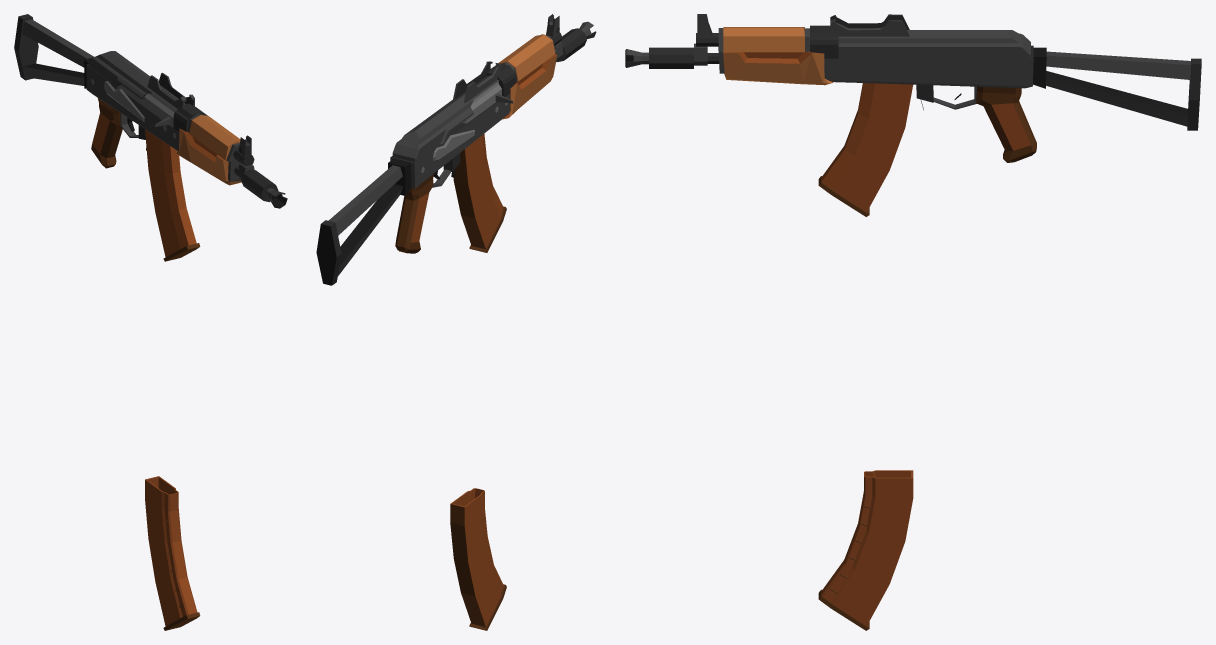
The model's file is AkSu_Gun.glb.
3 views of the same model, side by side, from view 1: azimuth 30°, elevation 25°; view 2: azimuth 150°, elevation 25°; view 3: azimuth 270°, elevation 25° (orthographic). The views are drawn at different scales.
Visible parts, largest first — view 1: AkSuLowPoly, AkSuMagazine; view 2: AkSuLowPoly, AkSuMagazine; view 3: AkSuLowPoly, AkSuMagazine.
Boxes of the visible parts, x1,y1,x2,y2 form: AkSuLowPoly: (14, 14, 287, 261); AkSuMagazine: (145, 476, 200, 630); AkSuLowPoly: (316, 14, 596, 285); AkSuMagazine: (450, 488, 506, 630); AkSuLowPoly: (625, 14, 1201, 216); AkSuMagazine: (818, 470, 913, 630).
Bounding box in the file's own units: 0.074 × 0.9793 × 0.8377.
Materials: 1 (1 with a texture image).
